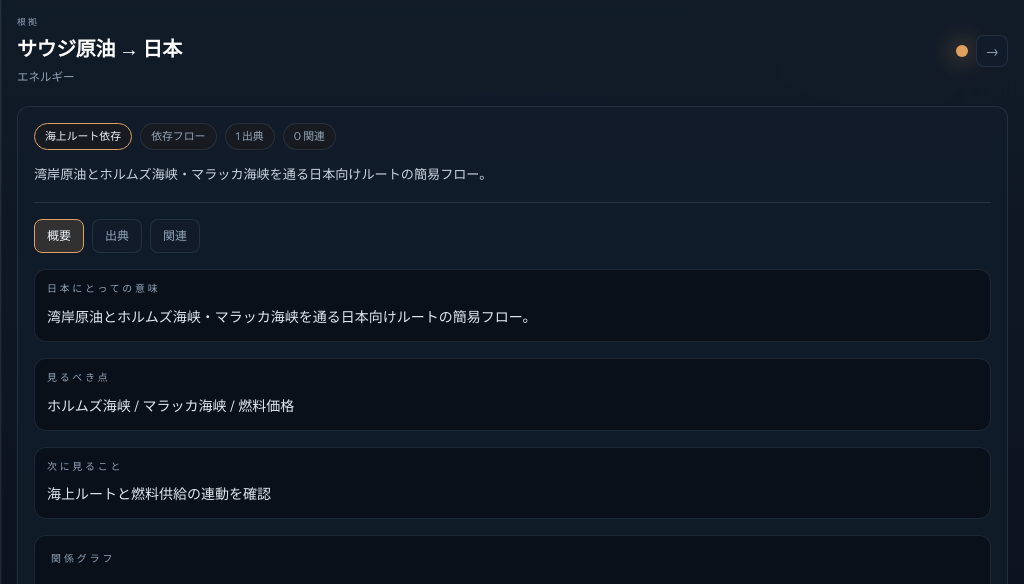
it: evidence panel structure › shows source freshness based on the accessed date
The image size is (1024, 584).
Click the button "出典" at coordinates (117, 236), box [92,219,142,253]
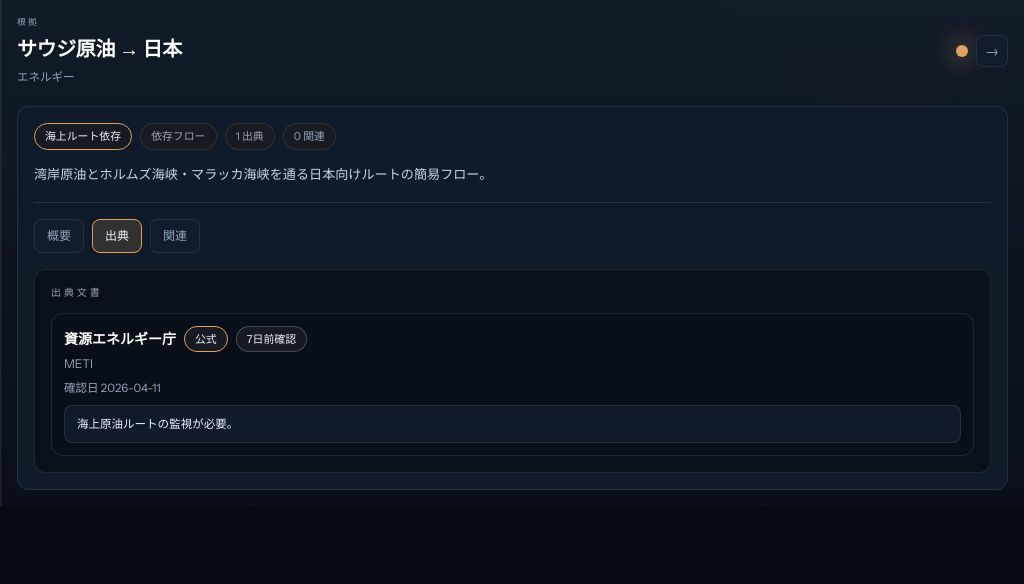
Expected: the text "7日前確認" is shown, [236,326,307,352]
Expected: the text "確認日 2026-04-11" is shown, [64,381,161,395]
